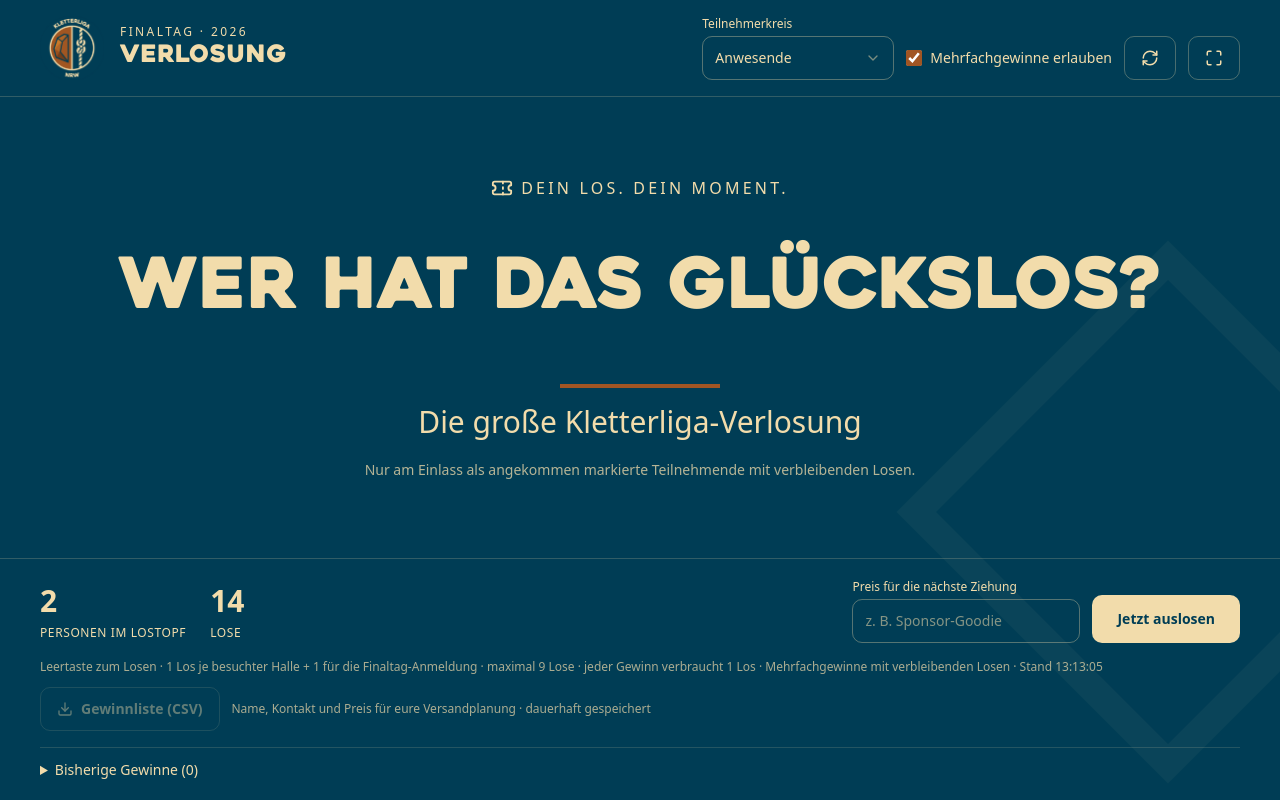
it: TV raffle › retries the same request ID after a lost response instead of redrawing
Later steps or results of the test are not shown.
What coordinates should you click on to do the following:
click the button "Jetzt auslosen"
I would click on:
 (1166, 619)
Its box is top-left (1092, 595), bottom-right (1240, 643).
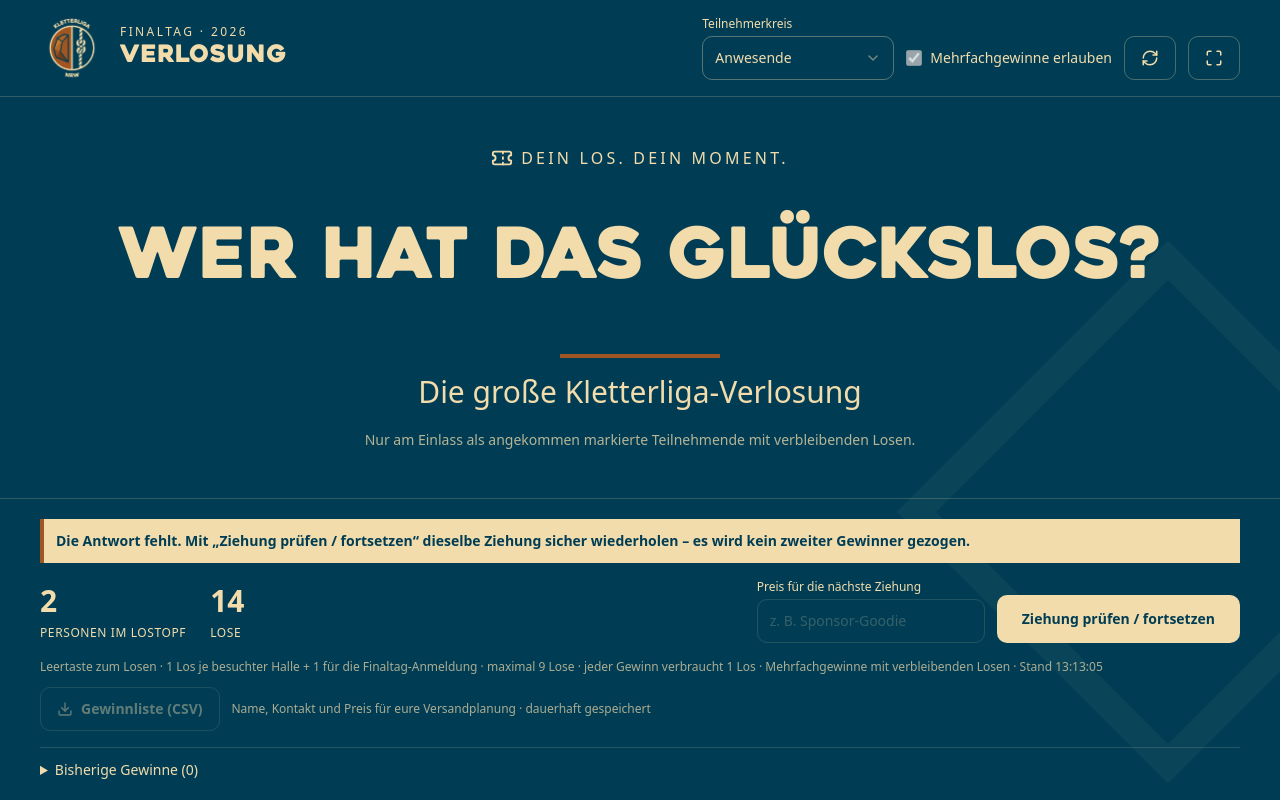
Expected: the message shows "kein zweiter Gewinner", top-left (56, 531), bottom-right (970, 550)
